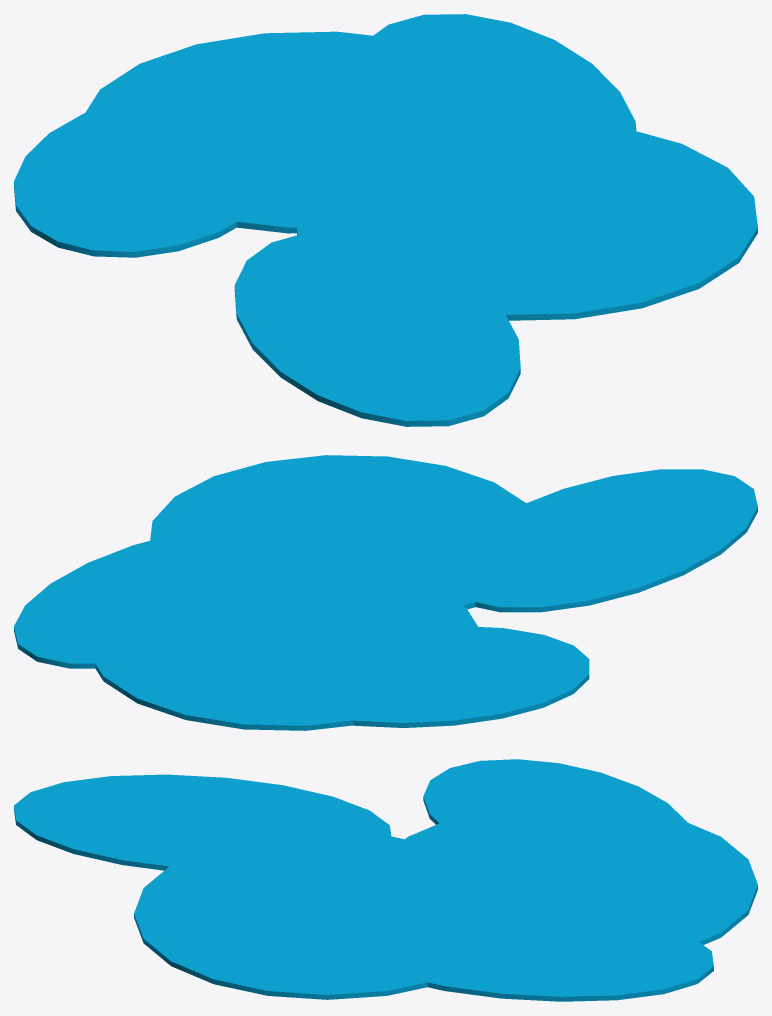
File: charco.fbx
3 renders of one model, top to bottom at view 1: azimuth 30°, elevation 25°; view 2: azimuth 150°, elevation 25°; view 3: azimuth 270°, elevation 25°, orthographic. The views are drawn at different scales.
Visible parts, largest first — view 1: pCylinder12; view 2: pCylinder12; view 3: pCylinder12.
Boxes of the visible parts, box(x1,y1,x2,y2) form: pCylinder12: box(14, 14, 757, 426); pCylinder12: box(14, 455, 757, 730); pCylinder12: box(14, 759, 757, 1001).
Bounding box in the file's own units: 2.91 × 0.028 × 3.85.
